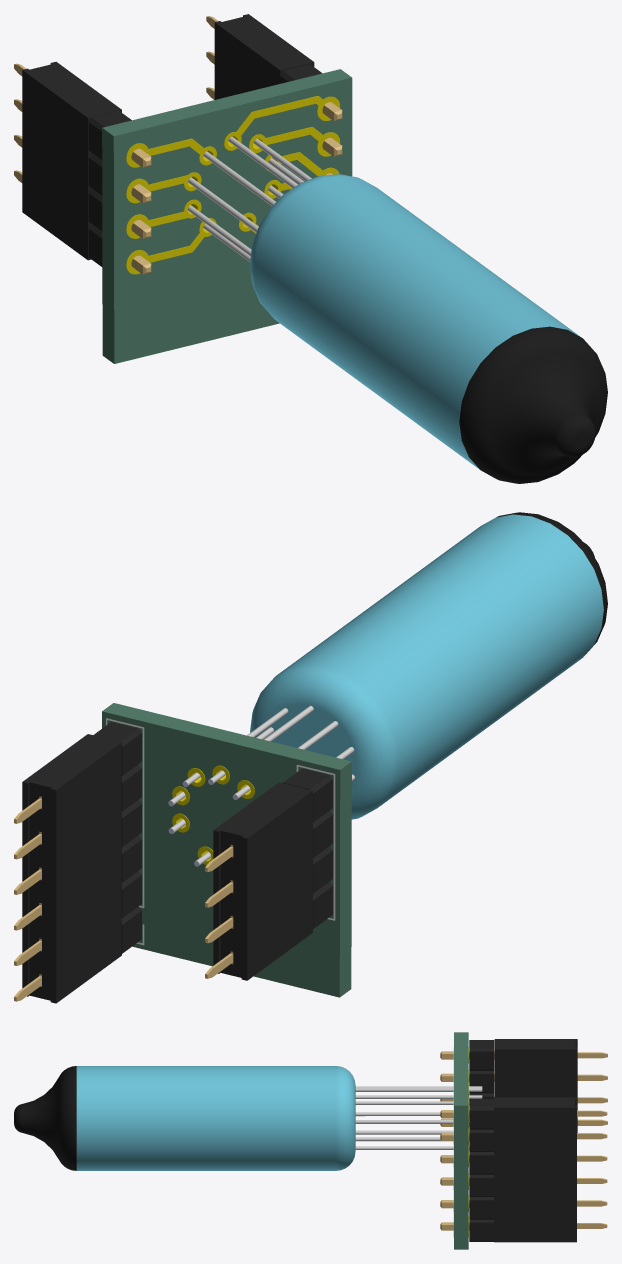
Rendered from numitron-na-patici-s-priesvitnym-sklom v1.obj.
3 views of the same model, one above another, from view 1: azimuth 30°, elevation 25°; view 2: azimuth 150°, elevation 25°; view 3: azimuth 270°, elevation 25° (orthographic). The views are drawn at different scales.
Visible parts, largest first — view 1: Body1:15, Body1:3, Body1:5, Body1:4, Body1, Body9, Body1:1, Body8, Body7, Body2, Body6, Body4; view 2: Body1:15, Body1:3, Body1:4, Body1:5, Body1:1, Body1, Body3:1; view 3: Body1:15, Body1:4, Body1:5, Body1:1, Body1:3, Body1.
Part boxes in pixels (x1=…): Body1:15: x1=188, y1=136, x2=607, y2=483; Body1:3: x1=102, y1=69, x2=352, y2=363; Body1:5: x1=14, y1=61, x2=121, y2=260; Body1:4: x1=206, y1=14, x2=314, y2=99; Body1: x1=88, y1=111, x2=151, y2=274; Body9: x1=224, y1=96, x2=340, y2=150; Body1:1: x1=279, y1=64, x2=342, y2=175; Body8: x1=126, y1=138, x2=216, y2=167; Body7: x1=249, y1=127, x2=340, y2=156; Body2: x1=126, y1=218, x2=216, y2=274; Body6: x1=126, y1=172, x2=201, y2=203; Body4: x1=126, y1=199, x2=201, y2=238; Body1:15: x1=168, y1=512, x2=607, y2=866; Body1:3: x1=102, y1=703, x2=351, y2=997; Body1:4: x1=14, y1=734, x2=121, y2=1003; Body1:5: x1=205, y1=782, x2=312, y2=980; Body1:1: x1=93, y1=722, x2=141, y2=953; Body1: x1=283, y1=768, x2=332, y2=928; Body3:1: x1=106, y1=718, x2=144, y2=908; Body1:15: x1=14, y1=1066, x2=482, y2=1170; Body1:4: x1=494, y1=1097, x2=607, y2=1242; Body1:5: x1=494, y1=1039, x2=607, y2=1132; Body1:1: x1=440, y1=1099, x2=493, y2=1241; Body1:3: x1=454, y1=1032, x2=468, y2=1249; Body1: x1=440, y1=1040, x2=494, y2=1126.
Size of the model in its own units: 1.78 by 1.63 by 6.09.
